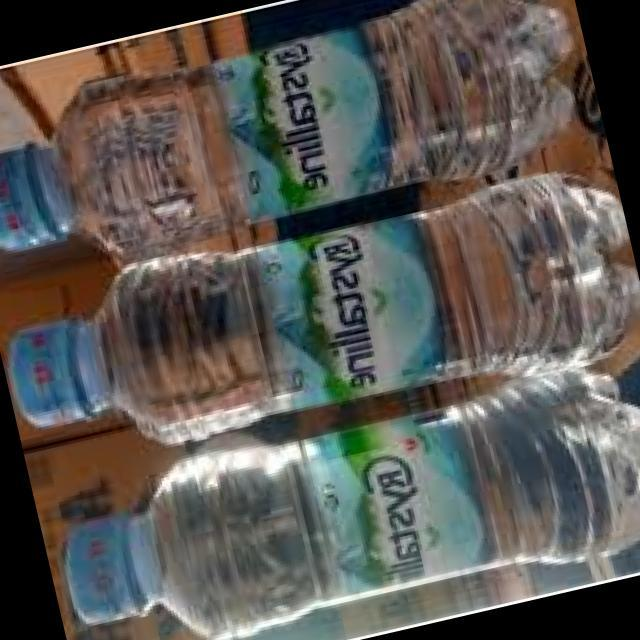good: (0, 147, 627, 481), (30, 357, 640, 640), (0, 0, 575, 288)
